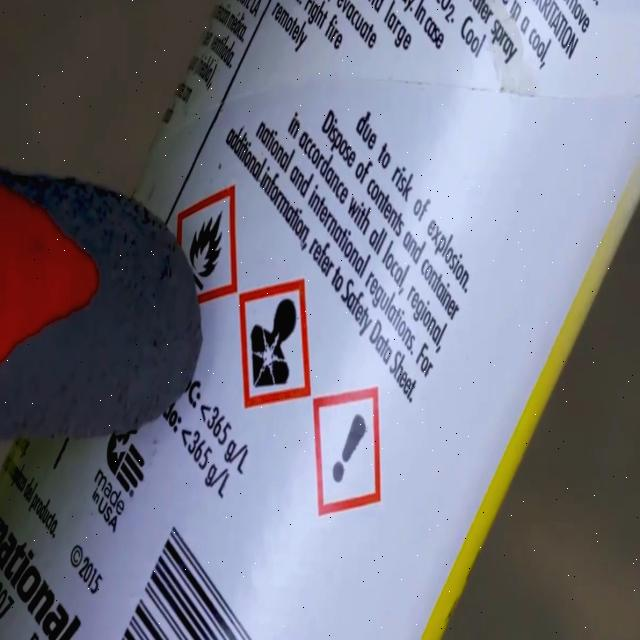Gloves: (0, 166, 202, 450)
